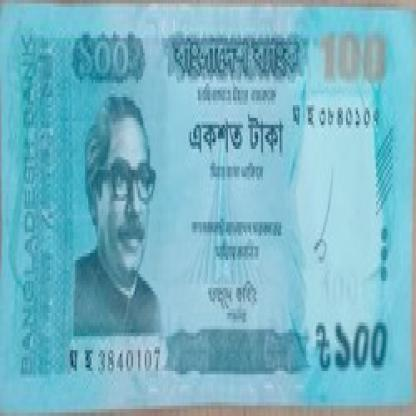one hundred taka: (316, 24, 390, 94), (329, 312, 401, 381), (70, 24, 138, 87)
